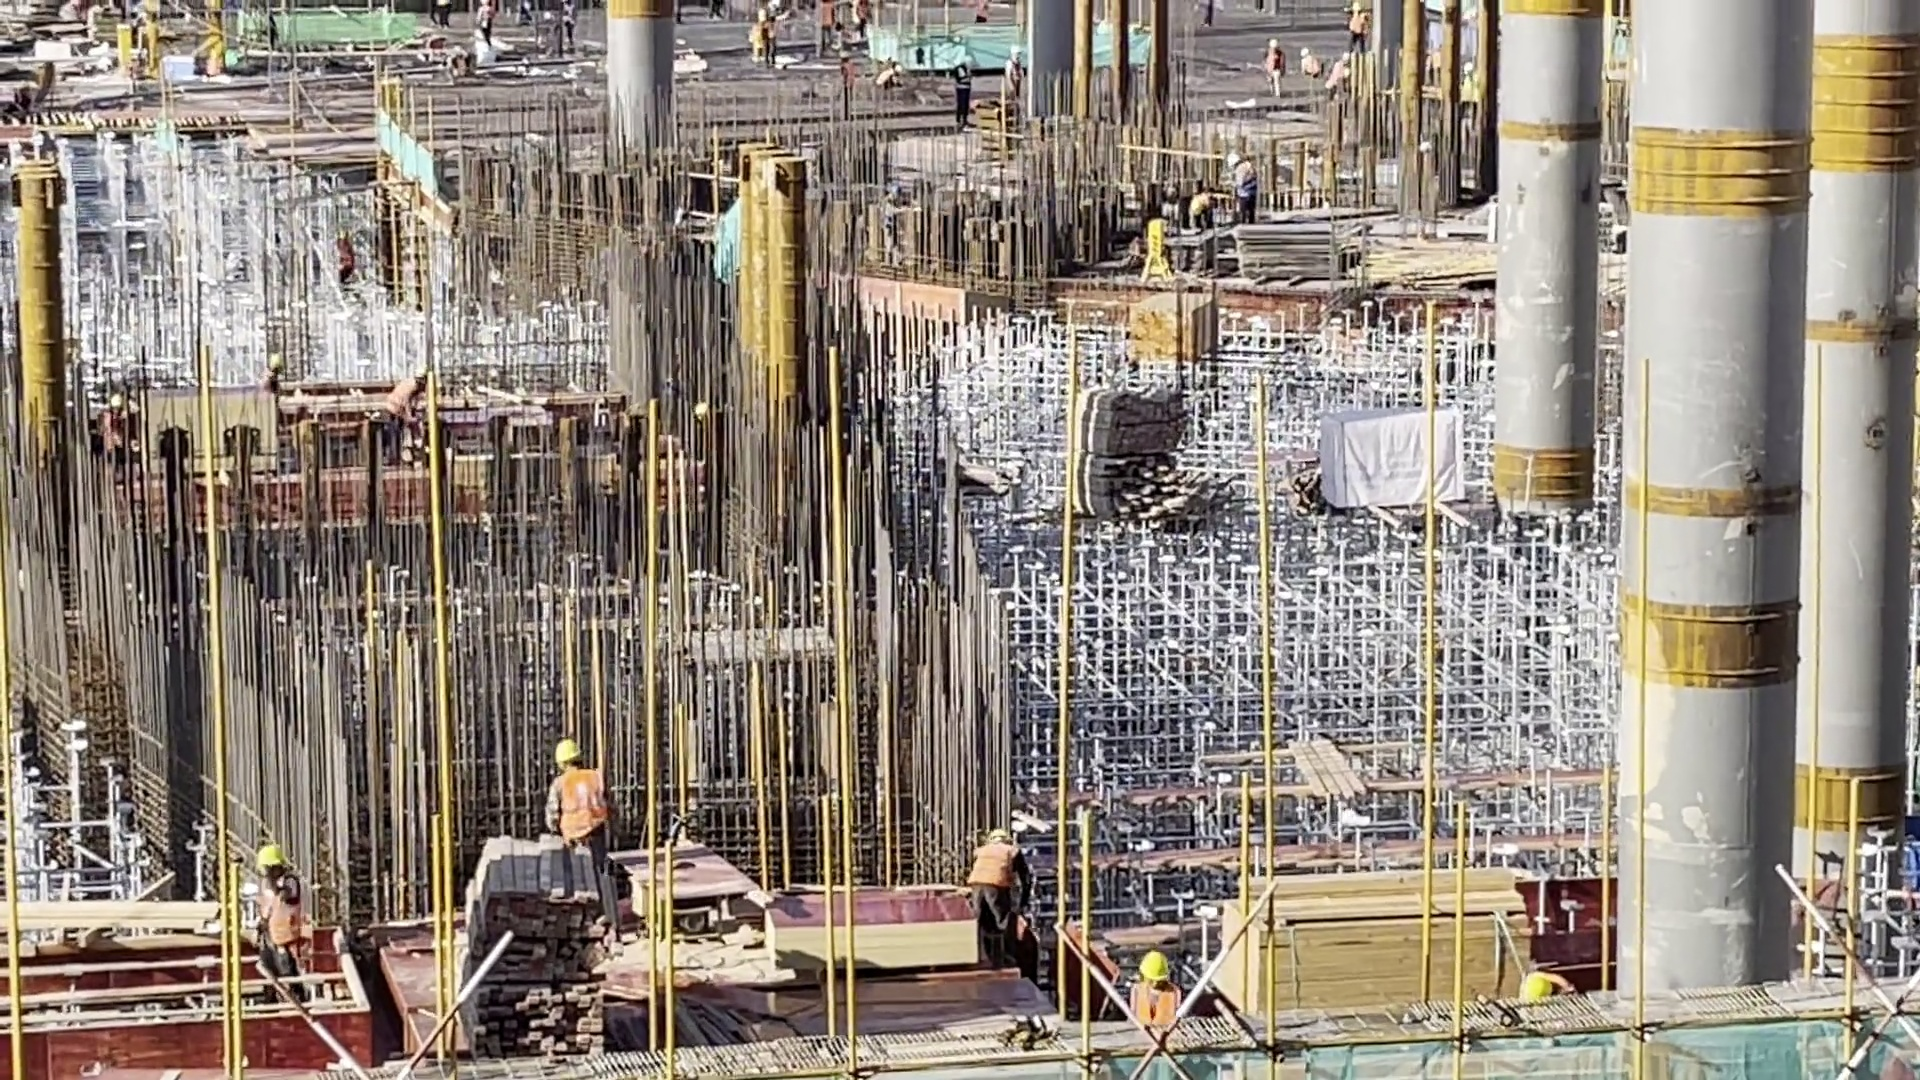board: (763, 892, 981, 970), (141, 389, 279, 480), (1237, 211, 1336, 279)
cutter: (600, 834, 755, 950)
ebox: (1140, 215, 1176, 284), (112, 20, 134, 68)
helmet: (1137, 946, 1172, 974), (1519, 977, 1556, 1002), (551, 738, 585, 765), (260, 844, 291, 870)
person: (961, 829, 1033, 964), (545, 735, 618, 841), (256, 844, 309, 992), (1110, 943, 1185, 1035), (375, 369, 428, 482), (94, 386, 127, 480), (1514, 968, 1581, 1005), (956, 46, 978, 127), (1229, 143, 1255, 209), (1259, 37, 1286, 102), (758, 1, 781, 70), (838, 49, 855, 119), (1004, 43, 1021, 107), (559, 1, 579, 55), (1338, 47, 1357, 104), (476, 1, 496, 49), (1299, 47, 1325, 78), (877, 62, 905, 87)
vest: (552, 769, 602, 832), (1120, 979, 1178, 1031), (265, 886, 308, 955), (973, 839, 1026, 886)
wood: (1218, 861, 1545, 1007), (442, 840, 588, 1069), (1061, 382, 1200, 534), (1123, 288, 1220, 372)
